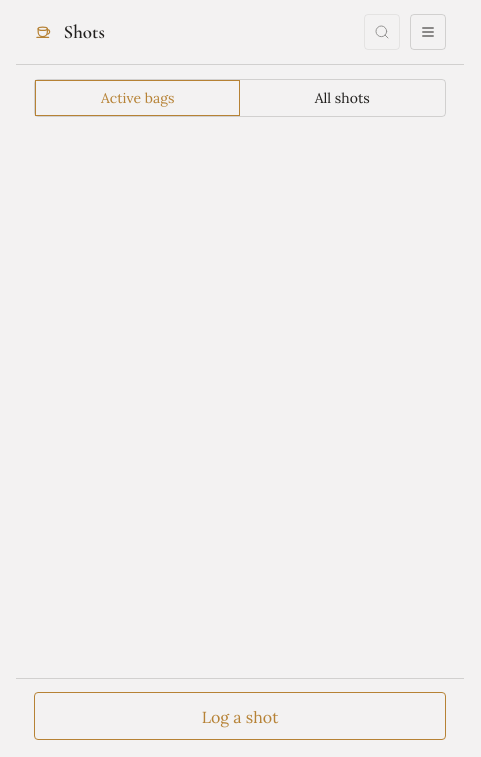
it: ShotListPage › filters a bag tagged past-peak out of Active bags
Expected: the button "Active bags" is shown, [35,80,240,116]
Expected: the text "Old Bag" is not shown
What coordinates should you click on to do the following:
click the button "All shots"
I would click on:
 (342, 98)
Its box is [240,80,445,116].
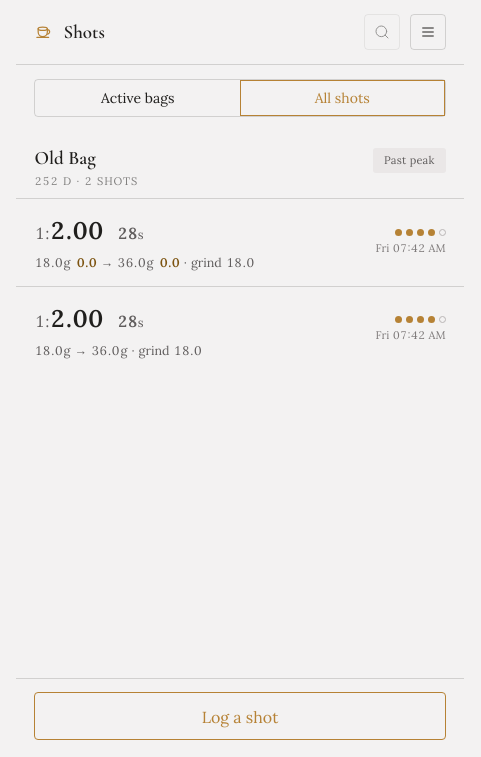
Now the text "Old Bag" is shown, box [34,146,96,169]
